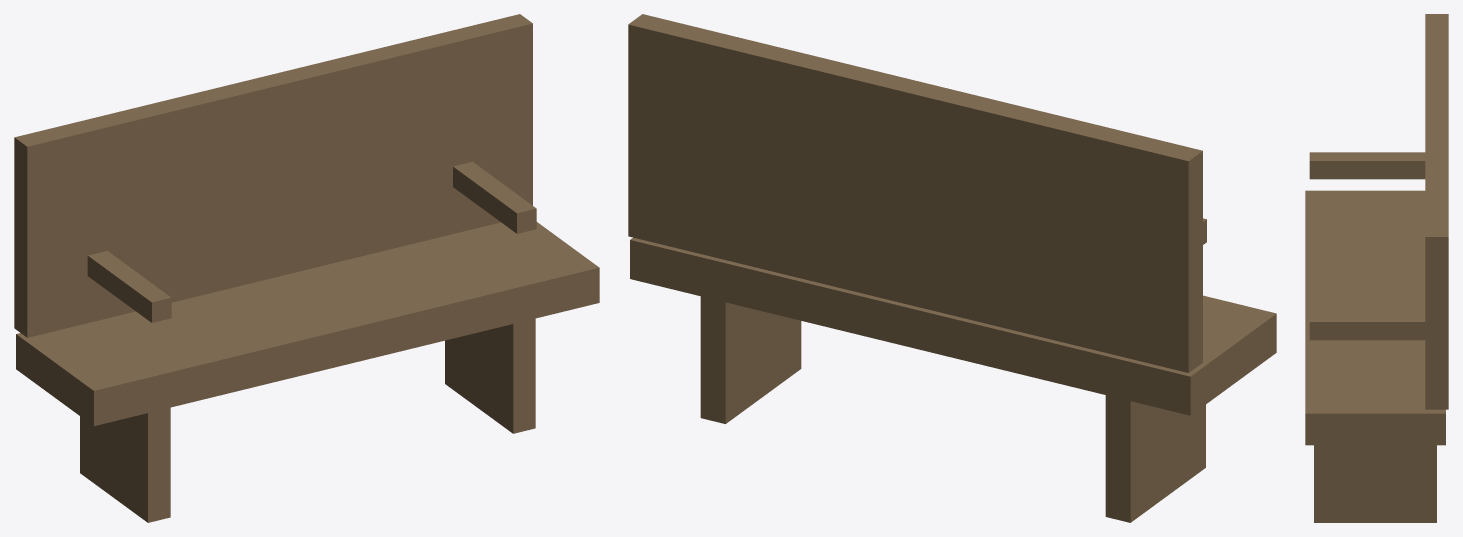
File: bench-preview.glb
3 renders of one model, left to right at view 1: azimuth 30°, elevation 25°; view 2: azimuth 150°, elevation 25°; view 3: azimuth 270°, elevation 25°, orthographic. The views are drawn at different scales.
Parts seen in each view (by area): view 1: bench-preview; view 2: bench-preview; view 3: bench-preview.
Boxes of the visible parts, box(x1,y1,x2,y2) form: bench-preview: box(14, 14, 599, 522); bench-preview: box(628, 14, 1276, 522); bench-preview: box(1305, 14, 1448, 522).
Size of the model in its own units: 1.8 by 1.17 by 0.49.
